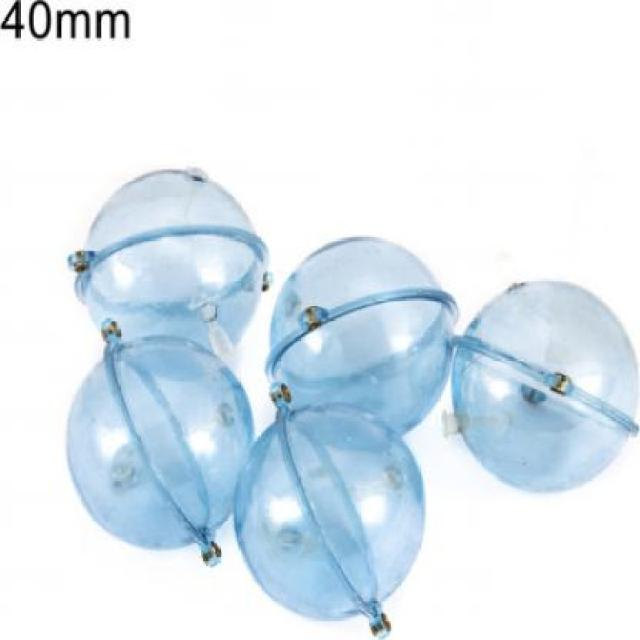a: (29, 337, 267, 560), (232, 384, 436, 633), (54, 155, 274, 370), (259, 231, 461, 434), (460, 271, 634, 500)
